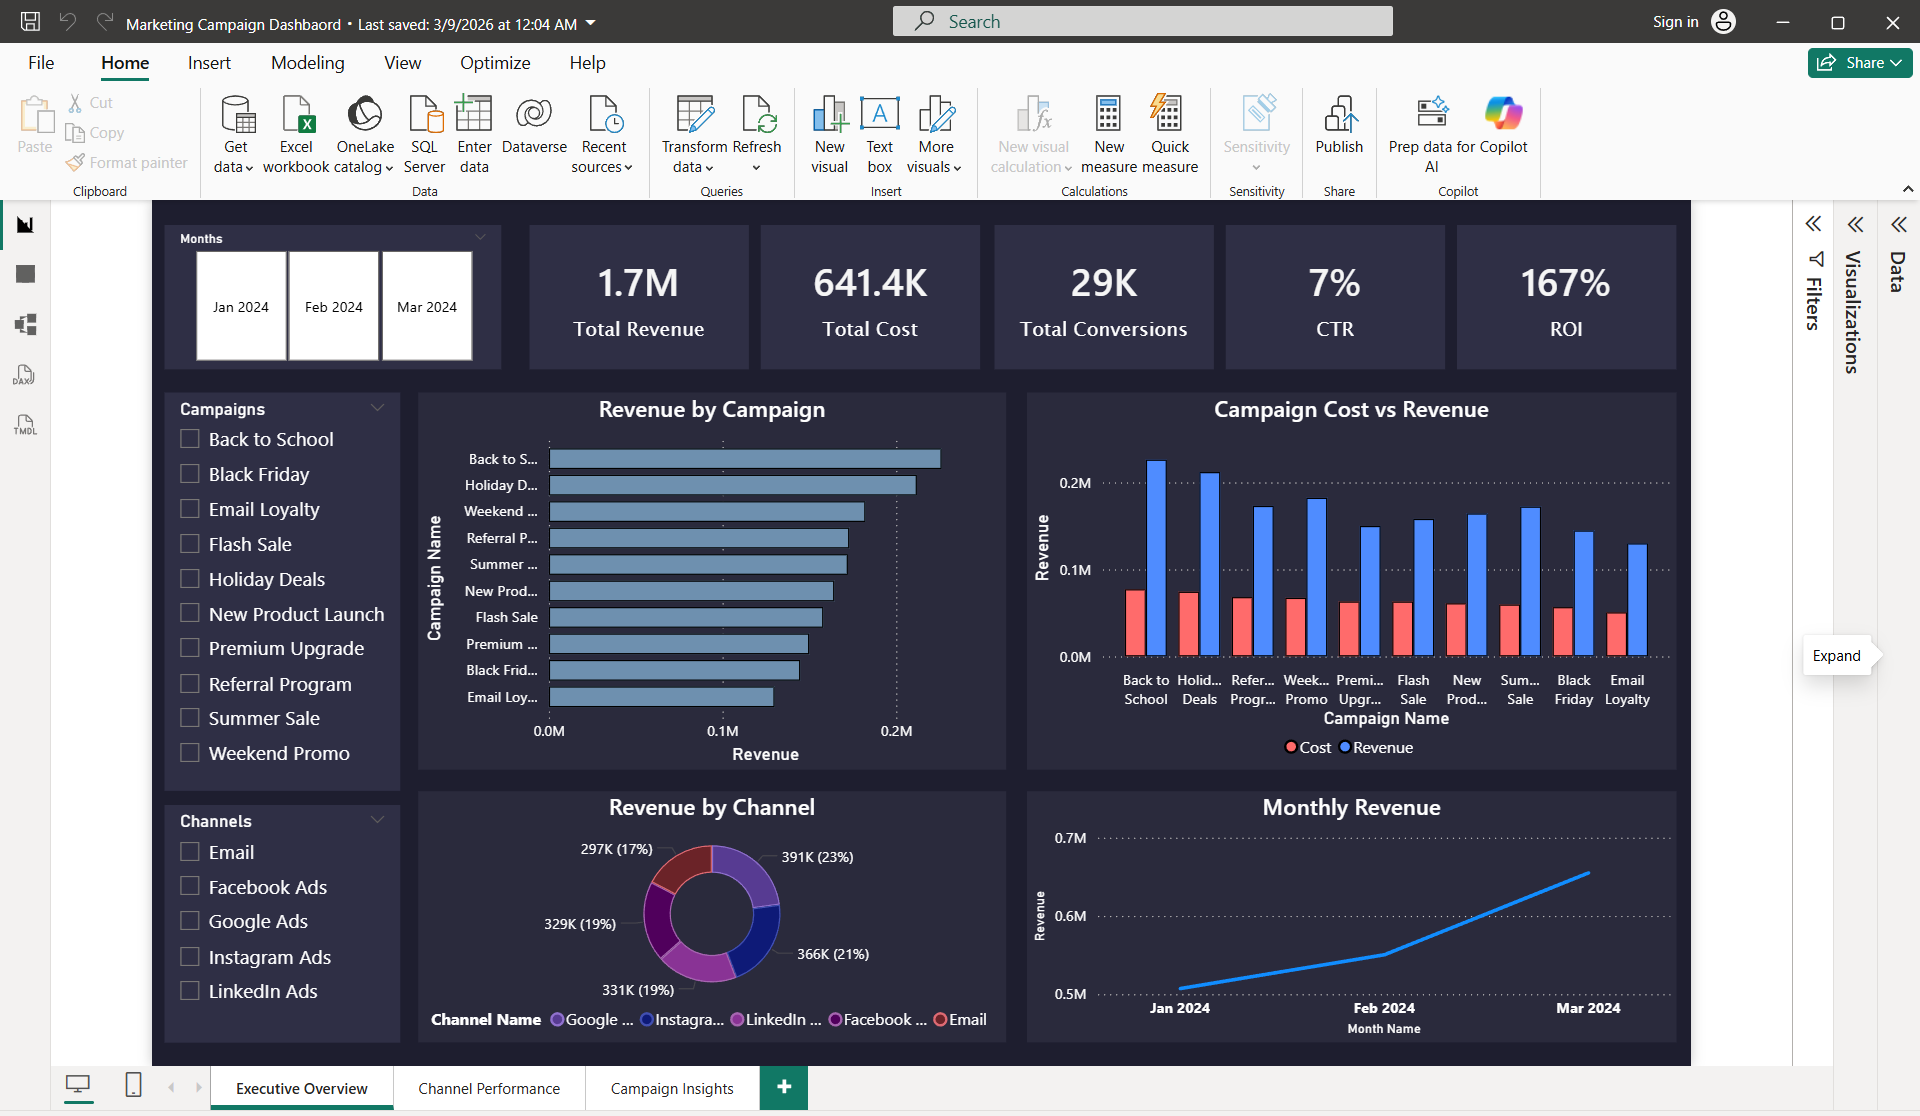

The dashboard page shown, as its layout file describes it:
{"tool":"powerbi","page":{"name":"Executive Overview","canvas":[1280,720],"ordinal":0},"visuals":[{"type":"card","fields":{"Values":["fact_campaign_performance.Total Revenue"]},"box":[313.8,21.2,182.5,120],"z":0},{"type":"card","fields":{"Values":["fact_campaign_performance.Total Cost"]},"box":[506.2,21.2,182.5,120],"z":1000},{"type":"card","fields":{"Values":["fact_campaign_performance.Total Conversions"]},"box":[700,21.2,182.5,120],"z":2000},{"type":"card","fields":{"Values":["fact_campaign_performance.ROI"]},"box":[1085,21.2,182.5,120],"z":3000},{"type":"card","fields":{"Values":["fact_campaign_performance.CTR"]},"box":[892.5,21.2,182.5,120],"z":4000},{"type":"clusteredBarChart","title":"Revenue by Campaign","fields":{"Y":["fact_campaign_performance.Total Revenue"],"Category":["dim_campaign.campaign_name"]},"box":[221.2,160,488.8,313.8],"z":5000},{"type":"donutChart","title":"Revenue by Channel","fields":{"Y":["fact_campaign_performance.Total Revenue"],"Category":["dim_channel.channel_name"]},"box":[221.2,491.2,488.8,208.8],"z":6000},{"type":"lineChart","title":"Monthly Revenue","fields":{"Y":["fact_campaign_performance.Total Revenue"],"Category":["dates.Month Name"]},"box":[727.5,491.2,540,208.8],"z":7000},{"type":"clusteredColumnChart","title":"Campaign Cost vs Revenue","fields":{"Category":["dim_campaign.campaign_name"],"Y":["camp_performance.Total Cost","camp_performance.Total Revenue"]},"box":[727.5,160,540,313.8],"z":8000},{"type":"slicer","fields":{"Values":["dim_channel.channel_name"]},"box":[10,502.5,196.2,197.5],"z":9000},{"type":"slicer","fields":{"Values":["dim_campaign.campaign_name"]},"box":[10,160,196.2,331.2],"z":10000},{"type":"slicer","fields":{"Values":["dates.Month Year"]},"box":[10,21.2,280,120],"z":11000}]}

Visuals, with their boxes on the page's 1280x720 design canvas (x1, y1, x2, y2). These are canvas units, not pixel positions in the 1920x1116 screenshot, which may show the page scaled, cropped or inside an application window:
card - fact_campaign_performance.Total Revenue: crop(314, 21, 496, 141)
card - fact_campaign_performance.Total Cost: crop(506, 21, 689, 141)
card - fact_campaign_performance.Total Conversions: crop(700, 21, 882, 141)
card - fact_campaign_performance.ROI: crop(1085, 21, 1268, 141)
card - fact_campaign_performance.CTR: crop(892, 21, 1075, 141)
"Revenue by Campaign" clusteredBarChart: crop(221, 160, 710, 474)
"Revenue by Channel" donutChart: crop(221, 491, 710, 700)
"Monthly Revenue" lineChart: crop(728, 491, 1268, 700)
"Campaign Cost vs Revenue" clusteredColumnChart: crop(728, 160, 1268, 474)
slicer - dim_channel.channel_name: crop(10, 502, 206, 700)
slicer - dim_campaign.campaign_name: crop(10, 160, 206, 491)
slicer - dates.Month Year: crop(10, 21, 290, 141)
